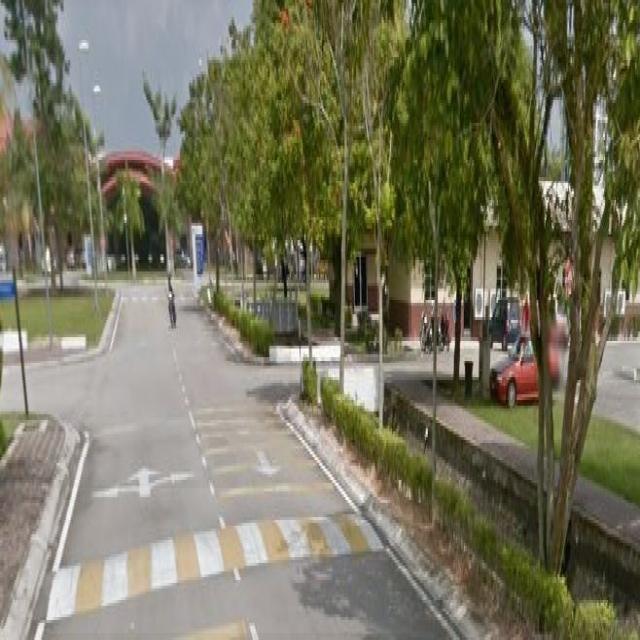speed-bump: (46, 488, 412, 633)
